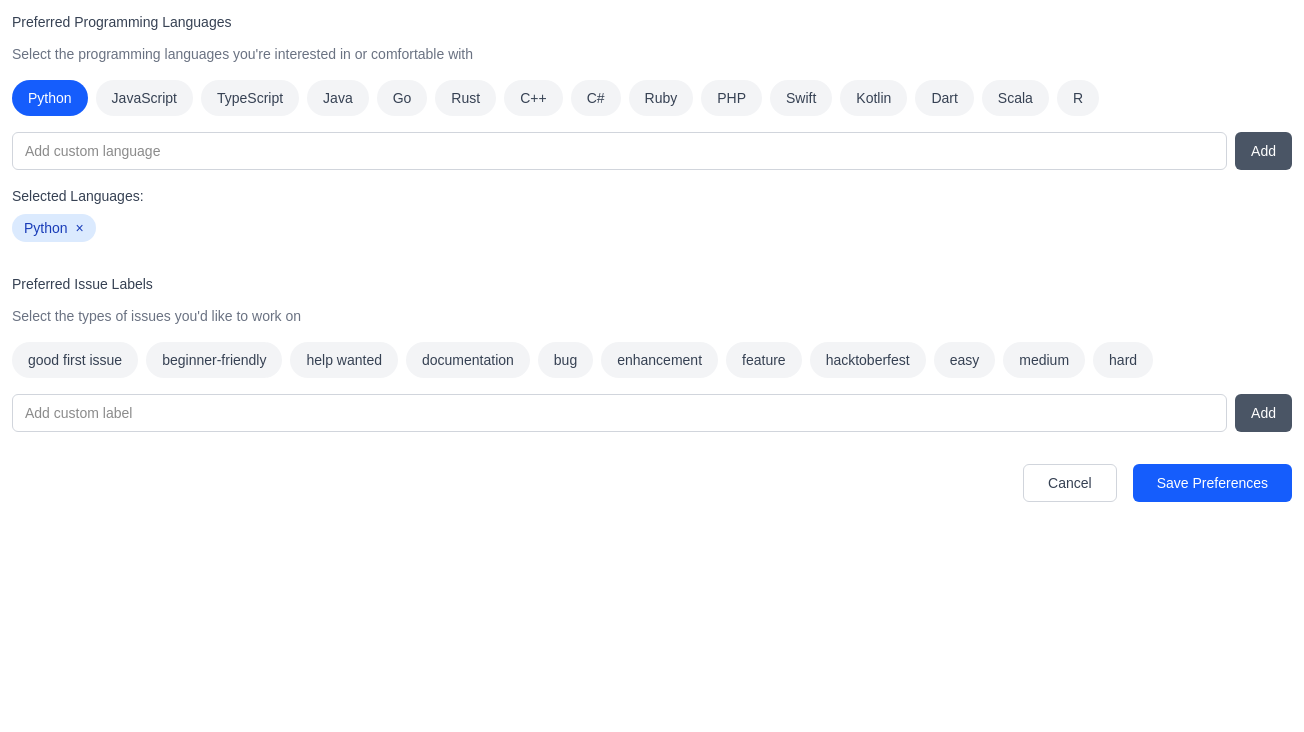
Test case: PreferencesForm › removes selected language
What coordinates should you click on to do the following:
click the button "×"
I would click on:
 (80, 228)
Its box is [76, 218, 84, 238].
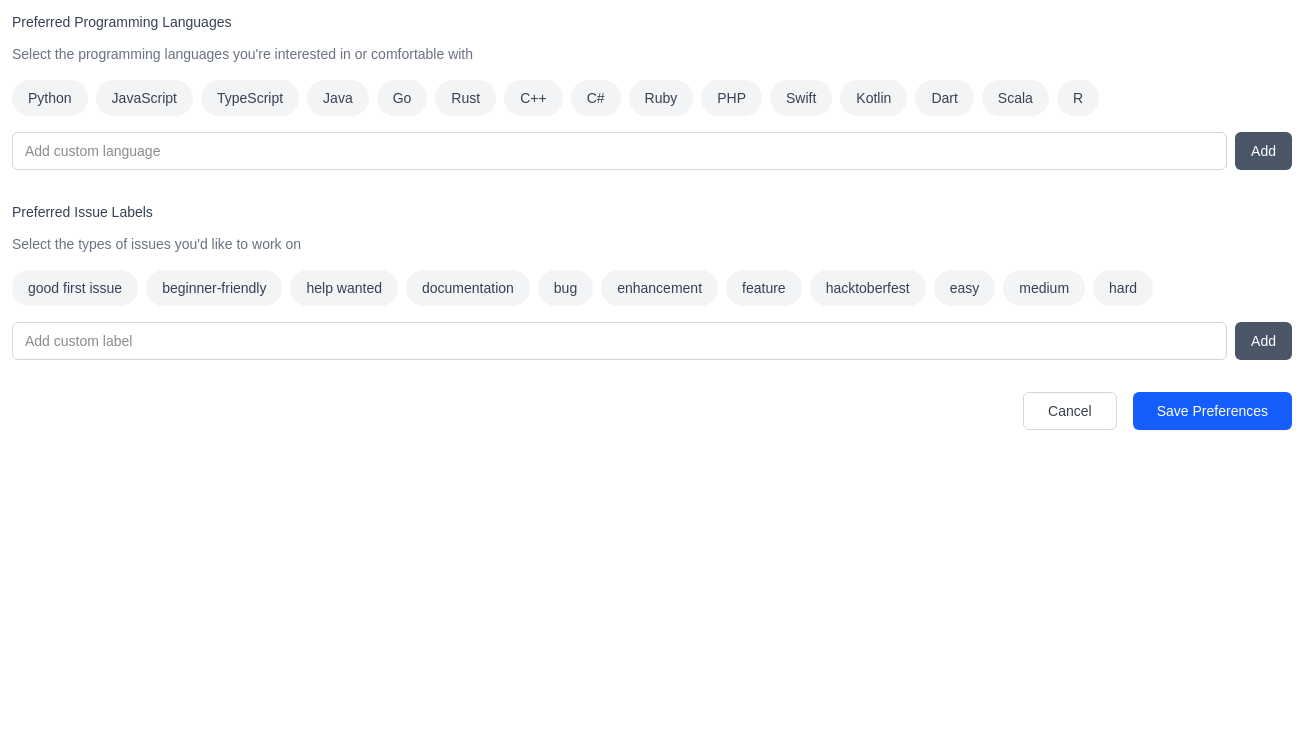
Expected: the text "Selected Languages:" is gone
